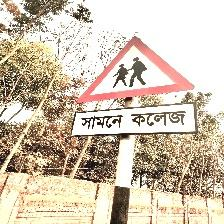College-in-front: (63, 35, 224, 143)
